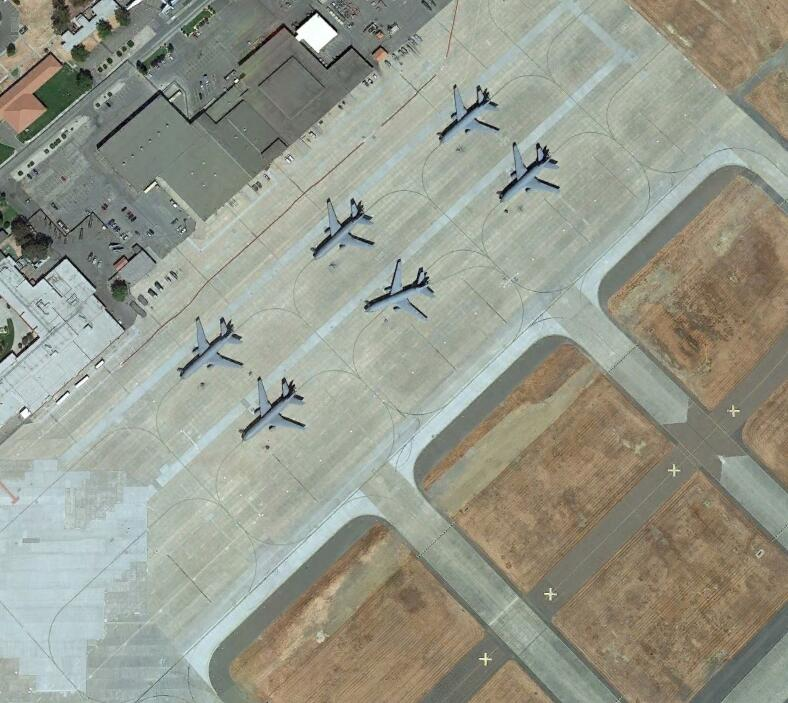A18: (498, 138, 565, 205), (240, 375, 308, 441), (436, 83, 504, 148), (176, 318, 246, 381), (367, 259, 435, 323), (311, 198, 376, 261)
